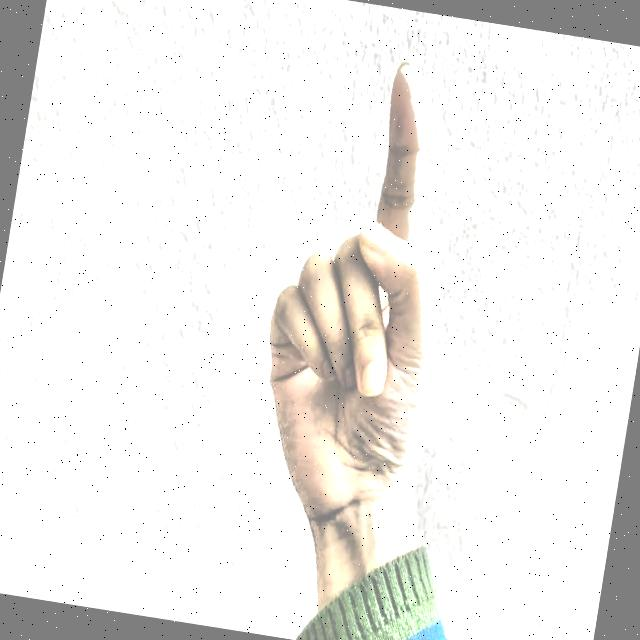U: (223, 34, 498, 542)
